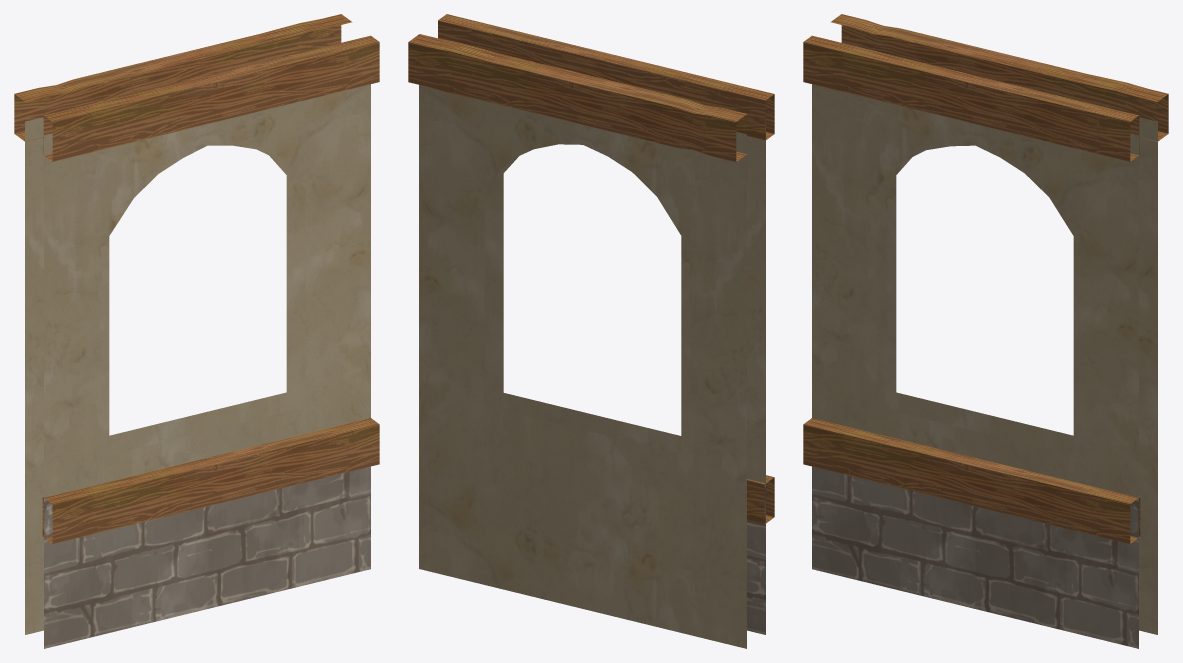
Rendered from Wall_Plaster_Window_Wide_Round.gltf.
The picture shows the model from 3 angles, left to right: view 1: azimuth 30°, elevation 25°; view 2: azimuth 150°, elevation 25°; view 3: azimuth 330°, elevation 25°; orthographic projection.
Visible parts, largest first — view 1: Wall_Plaster_Window_Wide_Round; view 2: Wall_Plaster_Window_Wide_Round; view 3: Wall_Plaster_Window_Wide_Round.
Part boxes in pixels (x1,y1,x2,y2): Wall_Plaster_Window_Wide_Round: [14, 14, 379, 648]; Wall_Plaster_Window_Wide_Round: [408, 14, 774, 648]; Wall_Plaster_Window_Wide_Round: [803, 14, 1168, 648].
Bounding box in the file's own units: 2 × 3.12 × 0.4065.
Materials: 3 (3 with a texture image).
